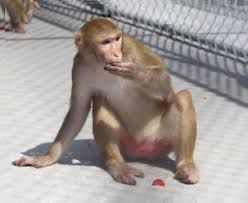monkey: (50, 13, 200, 193)
